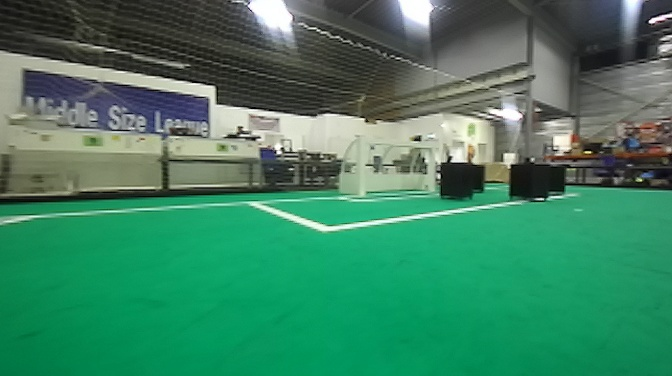goalpost: (351, 129, 363, 196), (422, 138, 436, 187)
